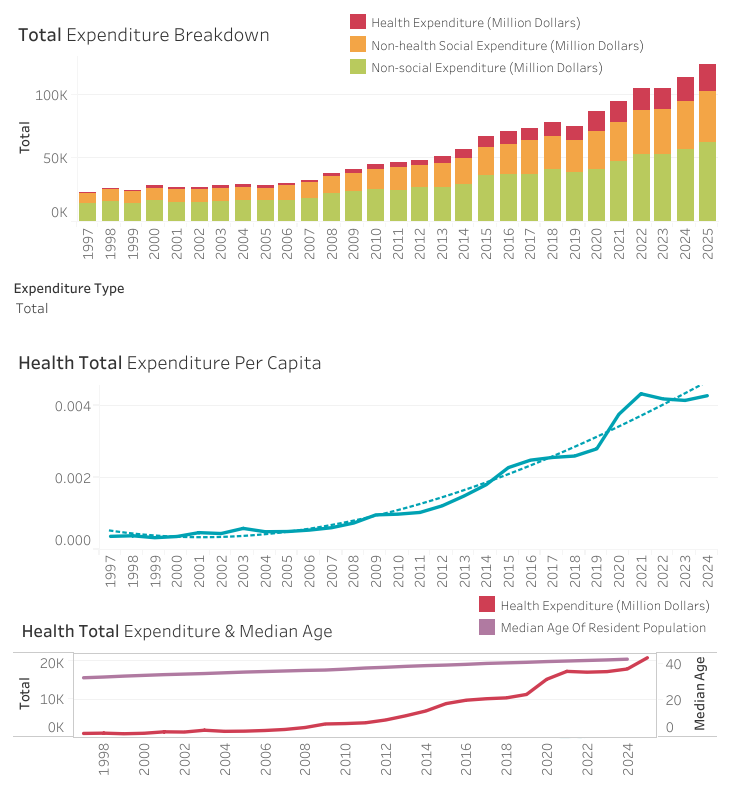

This screenshot's page, from the dashboard's own definition file:
{"tool":"tableau","page":{"name":"Dashboard","canvas":[650,860],"ordinal":0},"visuals":[{"type":"worksheet","title":"Expenditure Breakdown","mark":"Bar","cols":["F1"],"box":[8,8,634,281.3]},{"type":"legend","title":"Expenditure Breakdown","param":"[federated.1fhxkki16jiu5b162fj621k7cmbr].[:Measure Names]","box":[308,22,292,85]},{"type":"parameter","param":"[Parameters].[Parameter 1]","box":[8,289.3,634,56.7]},{"type":"worksheet","title":"Per Capita","mark":"Automatic","rows":["Calculation_1354739109622190100"],"cols":["F1"],"box":[8,346,634,239]},{"type":"worksheet","title":"Median Age","mark":"Automatic","rows":["Calculation_1354739109611520017","Median Age Of Resident Population"],"cols":["F1"],"box":[8,585,634,267]}]}

Visuals, with their boxes on the page's 650x860 design canvas (x1, y1, x2, y2). These are canvas units, not pixel positions in the 730x802 screenshot, which may show the page scaled, cropped or inside an application window:
"Expenditure Breakdown" worksheet (Bar marks): left=8, top=8, right=642, bottom=289
"Expenditure Breakdown" legend: left=308, top=22, right=600, bottom=107
parameter: left=8, top=289, right=642, bottom=346
"Per Capita" worksheet: left=8, top=346, right=642, bottom=585
"Median Age" worksheet: left=8, top=585, right=642, bottom=852
